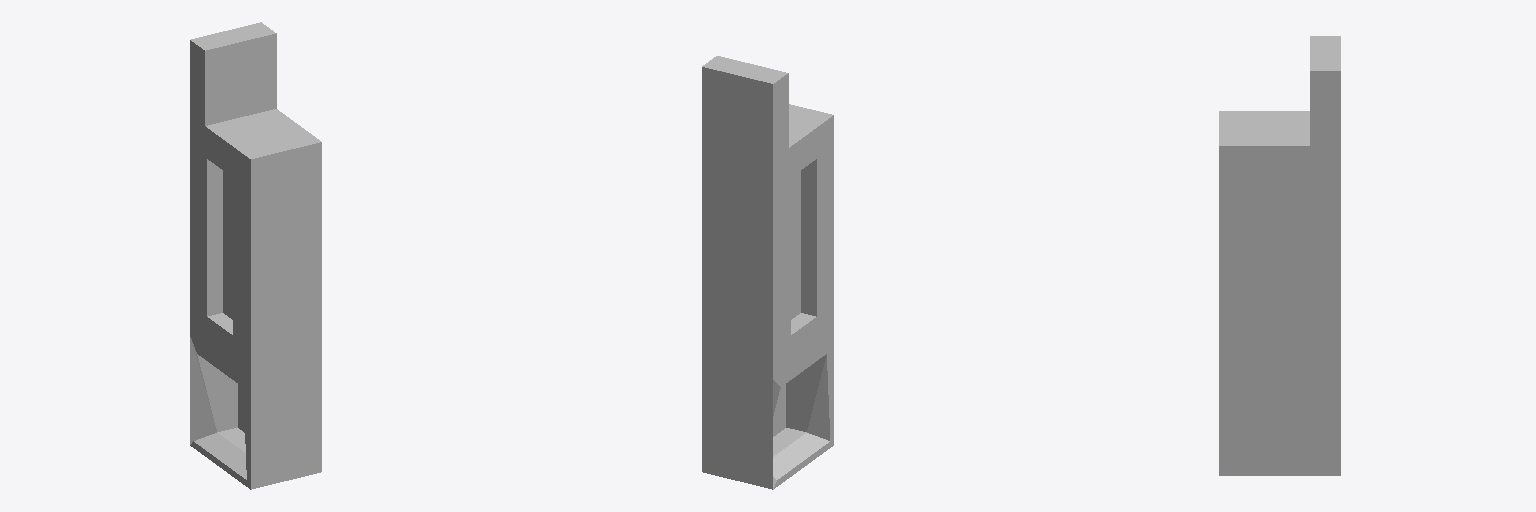
File: CellPhoneBuilding_01.obj
3 renders of one model, left to right at view 1: azimuth 30°, elevation 25°; view 2: azimuth 150°, elevation 25°; view 3: azimuth 270°, elevation 25°, orthographic.
Visible parts, largest first — view 1: Cube; view 2: Cube; view 3: Cube.
Boxes of the visible parts, <box> form: Cube: <box>190,22,321,489</box>; Cube: <box>702,56,833,489</box>; Cube: <box>1219,36,1340,475</box>.
Size of the model in its own units: 1.36 by 7.37 by 2.